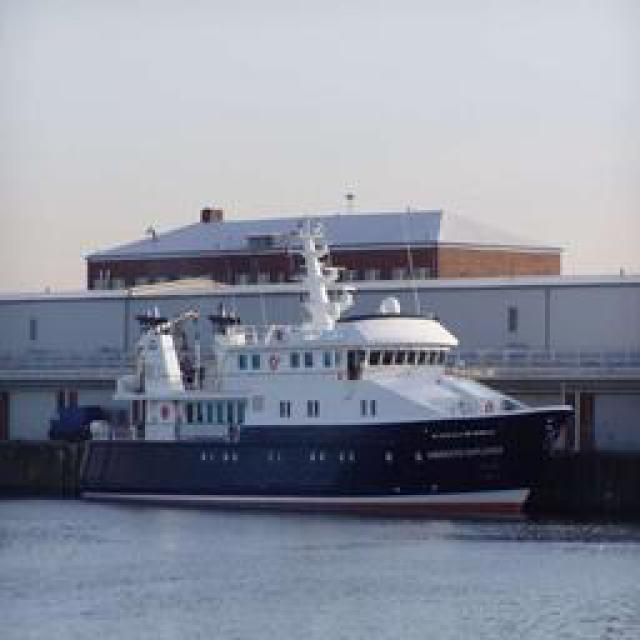Ship: (61, 216, 564, 504)
